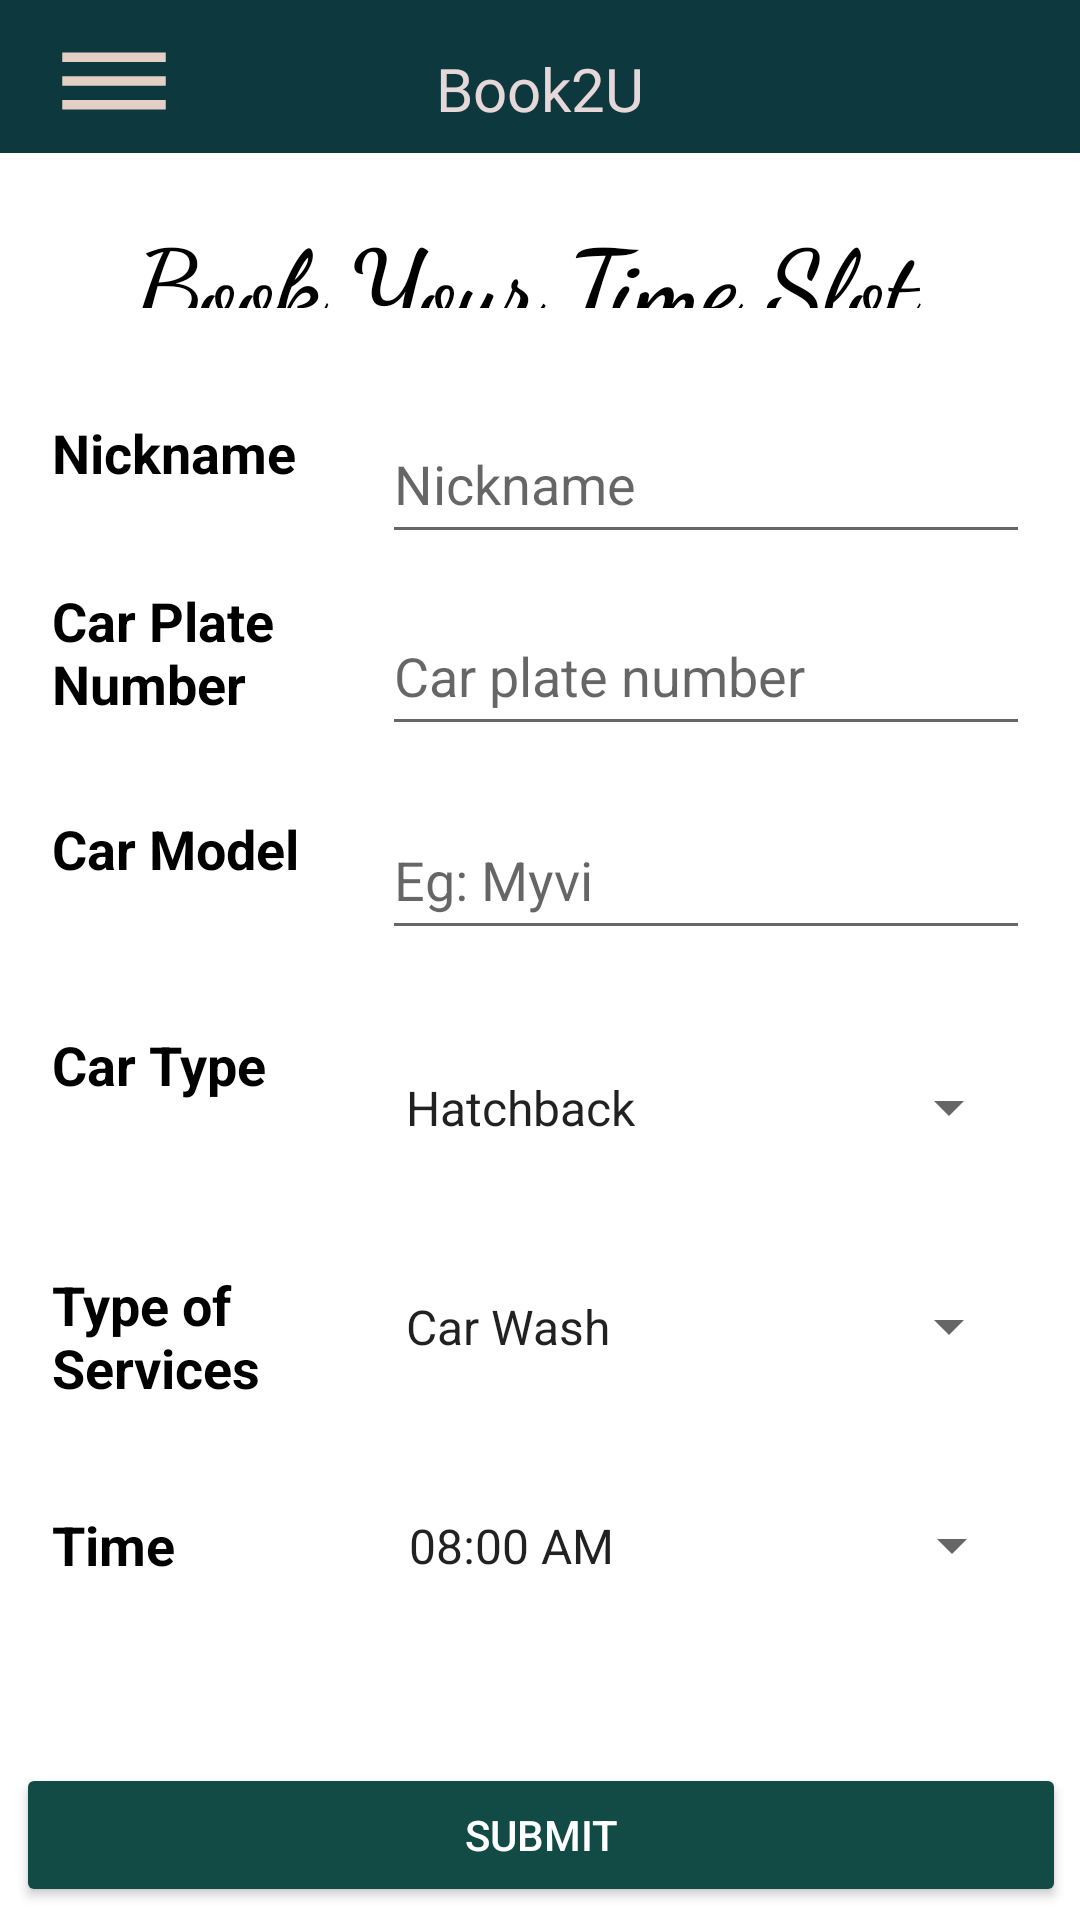

Icon click points for this 1080px x 1920px phone screenshot, format point (x, y):
menu: point (114, 81)
